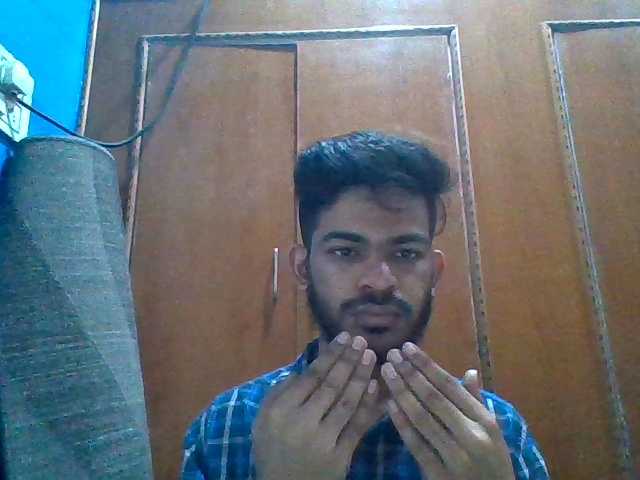thanks: (246, 329, 523, 480)
